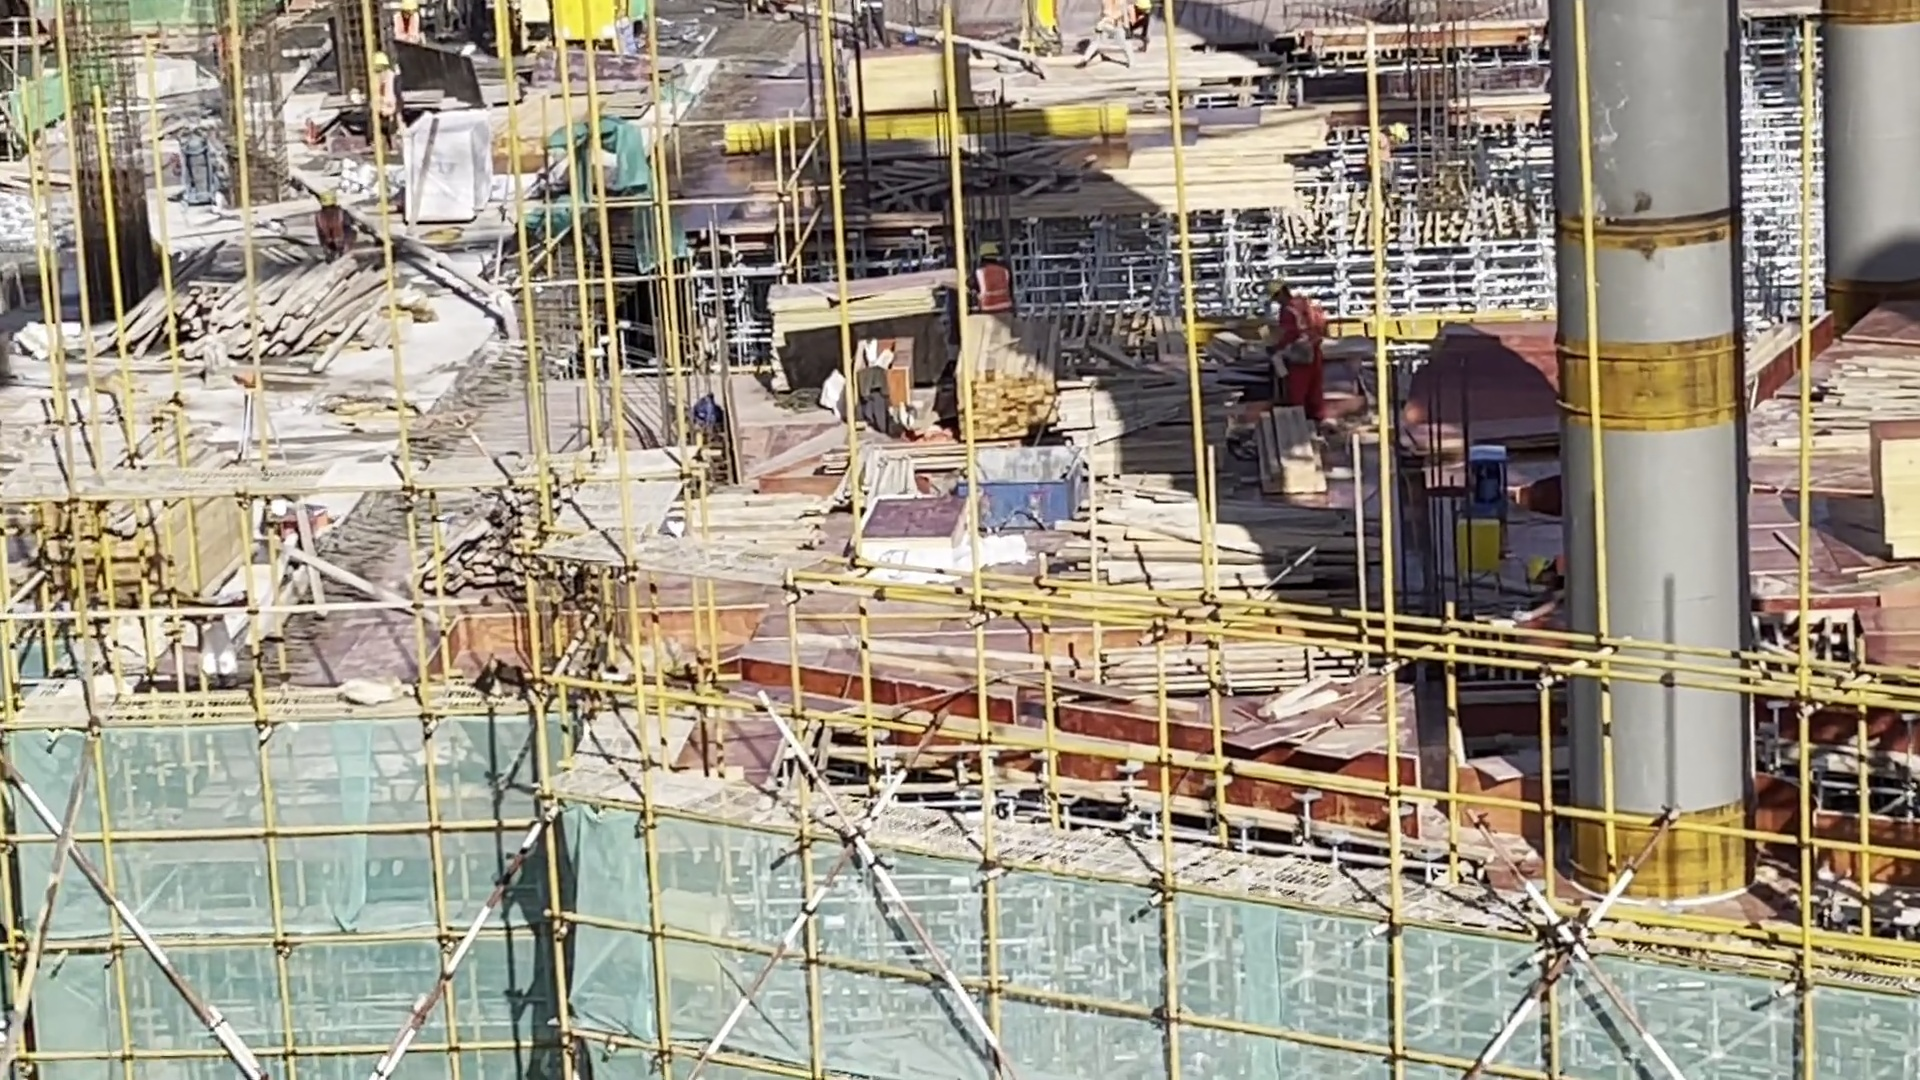board: (1241, 698, 1422, 765)
ebox: (1449, 497, 1518, 578)
helmet: (1389, 120, 1419, 150), (973, 240, 999, 265), (1259, 280, 1284, 305), (395, 1, 422, 23), (370, 56, 389, 76)
hopper: (962, 474, 1091, 553)
person: (1259, 283, 1338, 417), (1358, 113, 1422, 208), (358, 51, 410, 162), (970, 241, 1016, 325), (1097, 1, 1151, 61), (1518, 551, 1571, 609), (391, 1, 437, 60)
vest: (1283, 302, 1316, 371), (973, 261, 1012, 308), (321, 216, 347, 247)
wood: (86, 261, 386, 386), (1073, 465, 1289, 605), (1075, 631, 1325, 709), (952, 335, 1059, 463)
